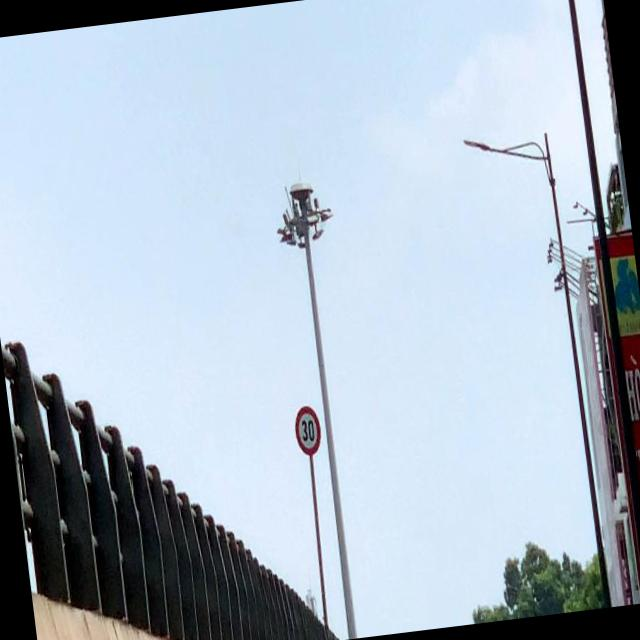P-127: (294, 402, 322, 456)
